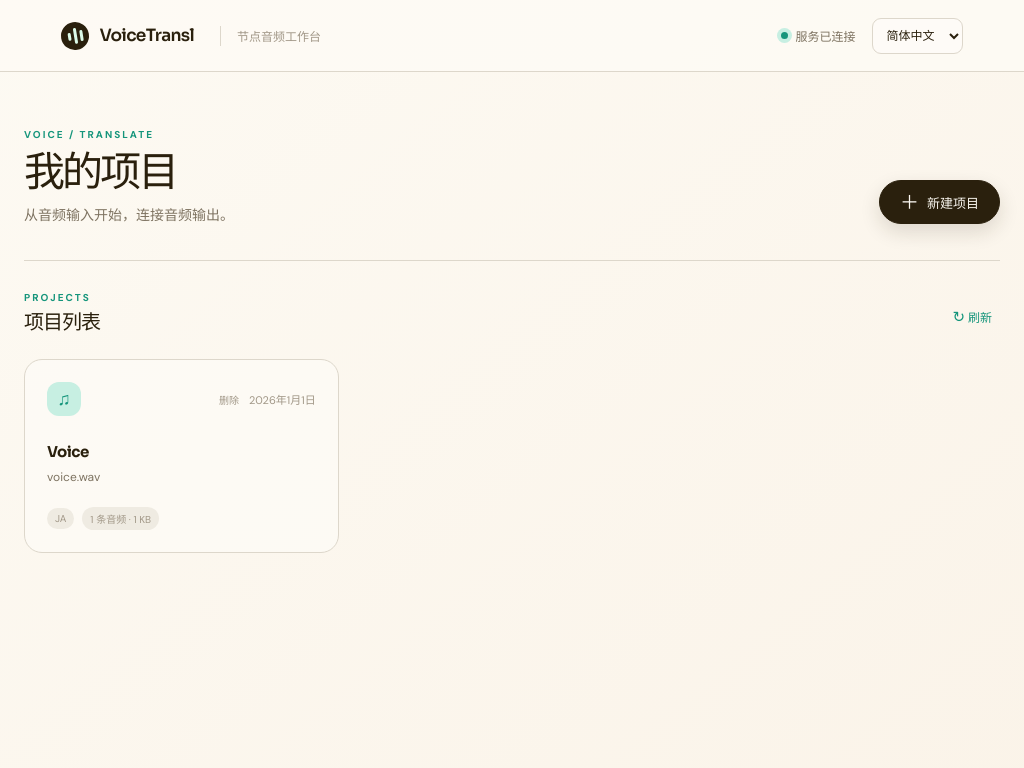
Scenario: name-only project creation › shows only a name field and creates the project through JSON without uploads or an upload-policy request
Click the button "＋ 新建项目" at [940, 202], box [879,180,1000,224]
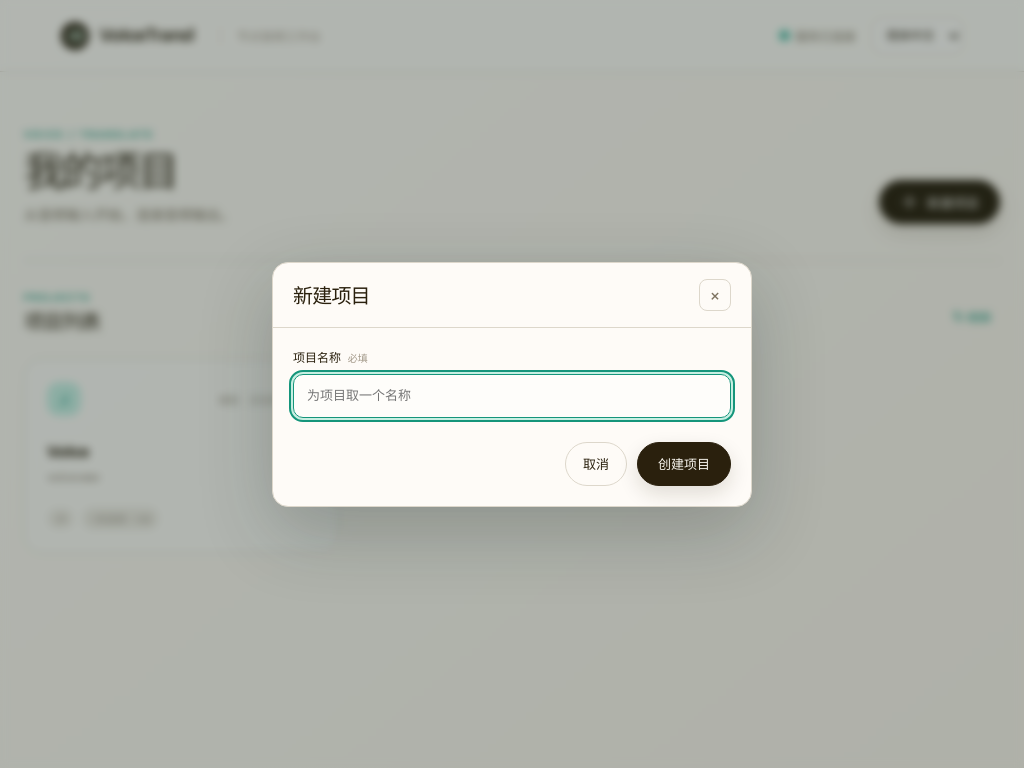
Expected: the element with class "list-layout" is shown, [24,260,1000,553]
Now the dialog is shown, box [272,262,752,506]
Now the number of fields is 1, box [293,374,731,418]
Submit the form, box [293,348,731,486]
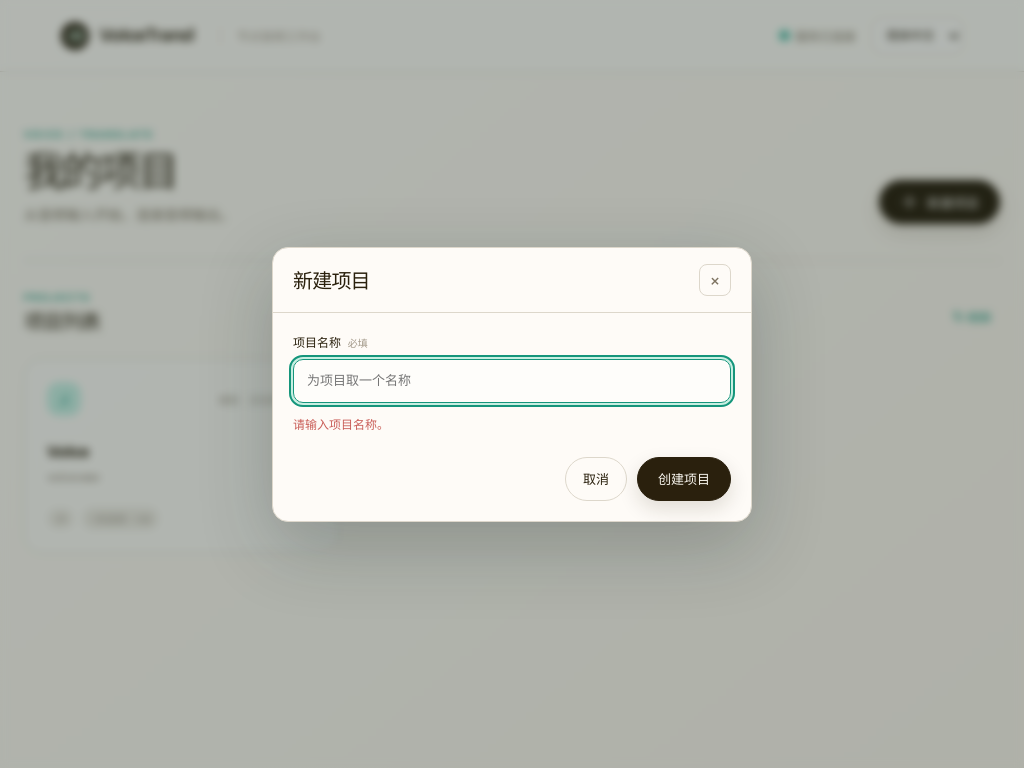
Now the text "请输入项目名称" is shown, box [293,416,389,432]
Type "  Empty canvas  " into the field labelled "项目名称 必填" at [512, 380], box [293,358,731,402]
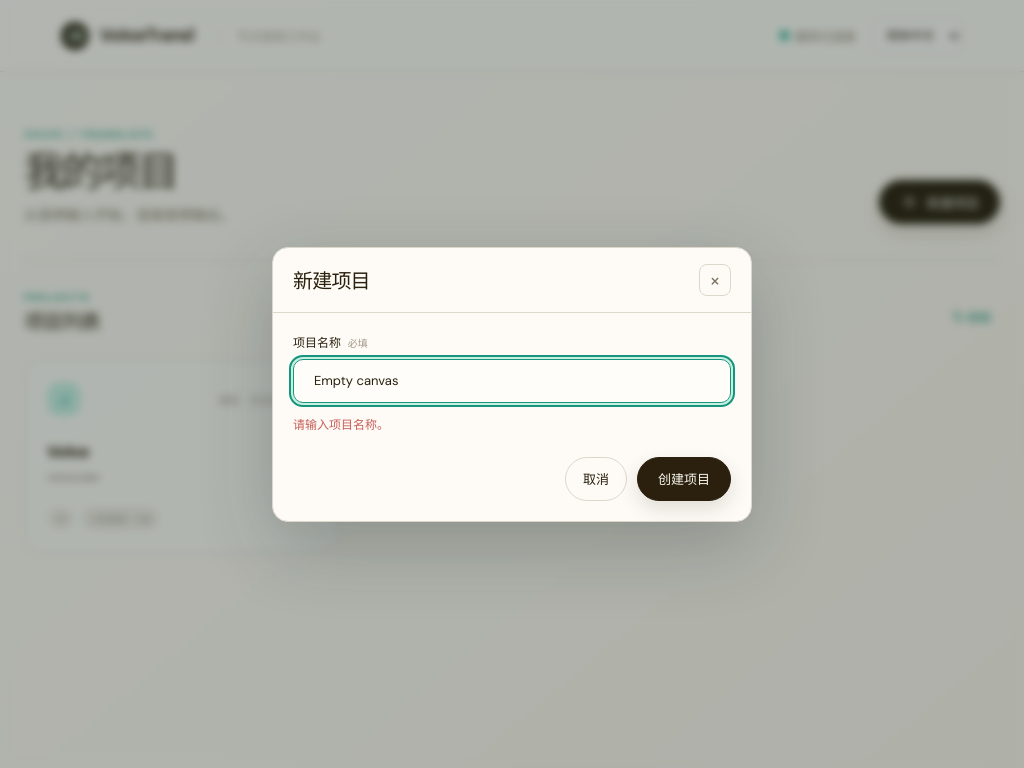
Submit the form, box [293,332,731,500]
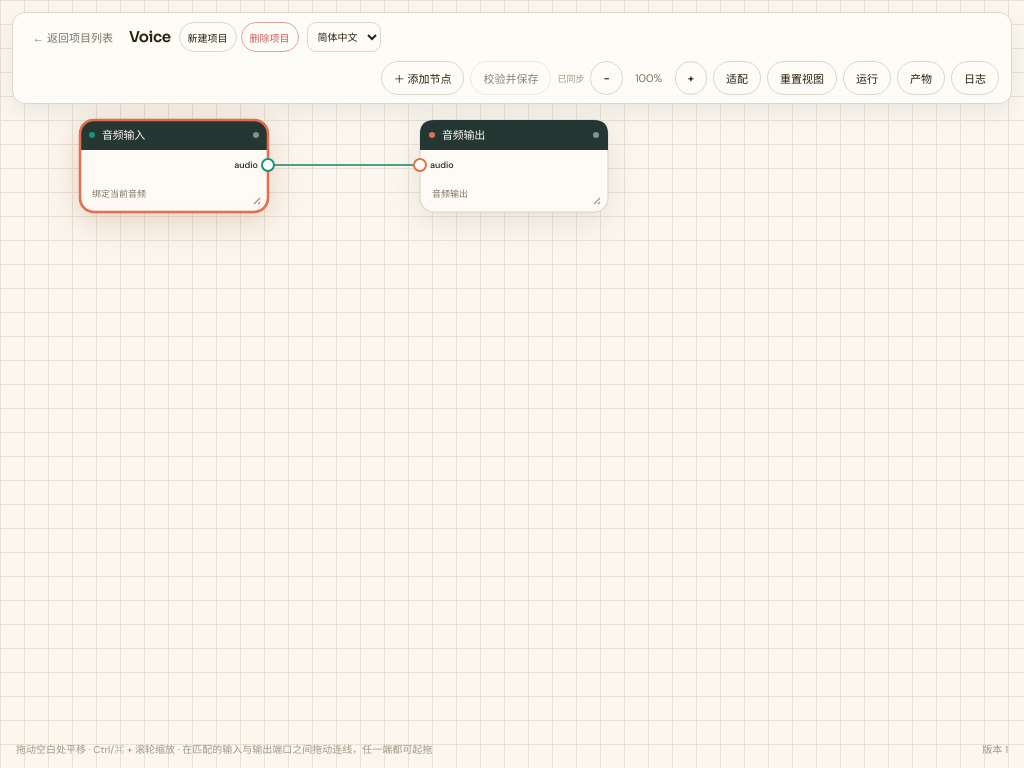
Now the element with class "node-workflow" is shown
